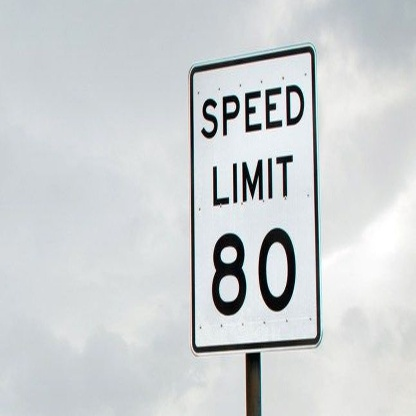limit1: (180, 40, 326, 356)
